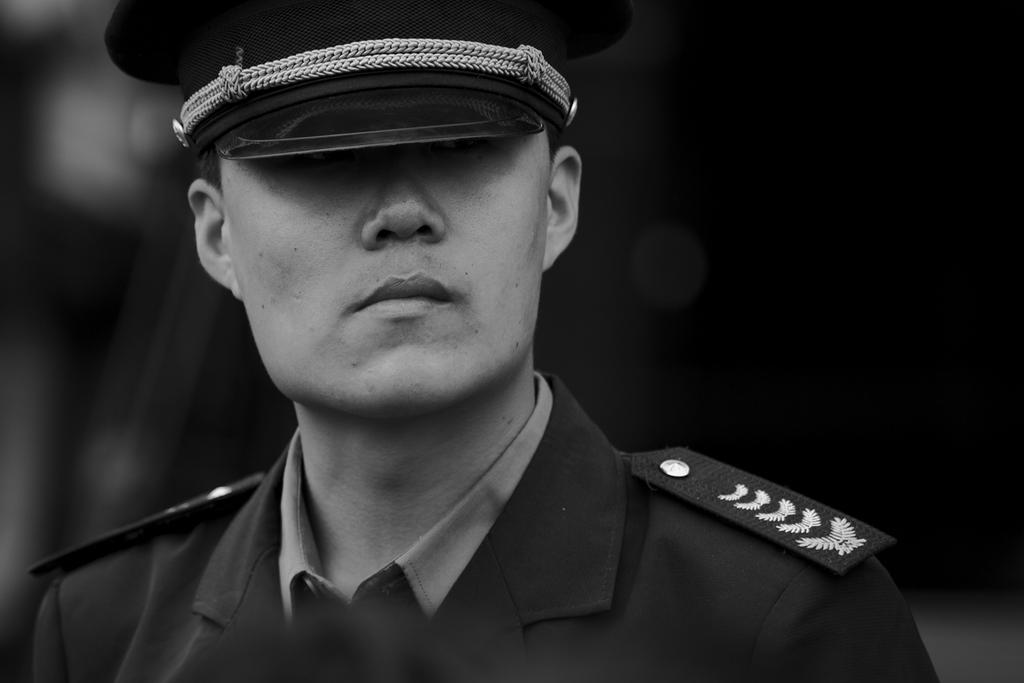Hat: (102, 0, 634, 158)
